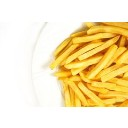frenchfries: (54, 22, 128, 106)
